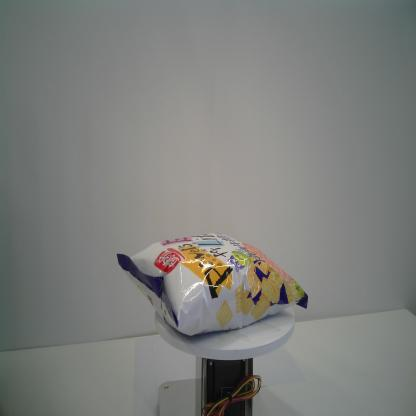Puffed Food: (113, 232, 310, 339)
